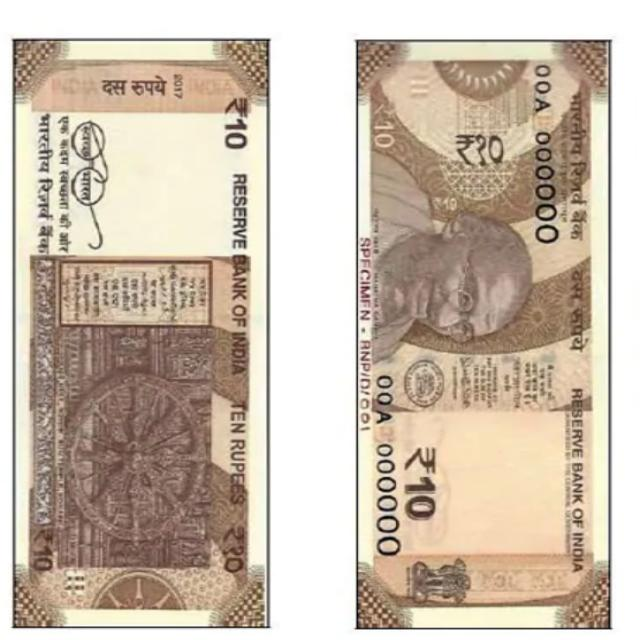10IndianRupees: (15, 35, 268, 628)
